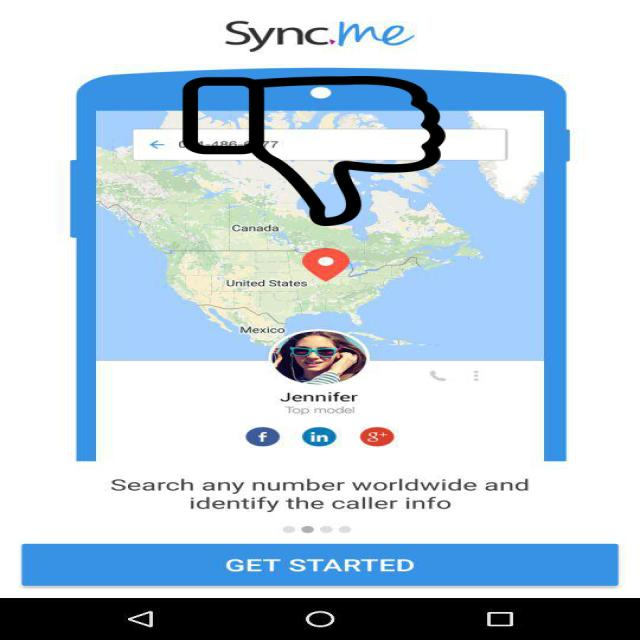obstruction: (179, 76, 449, 226)
